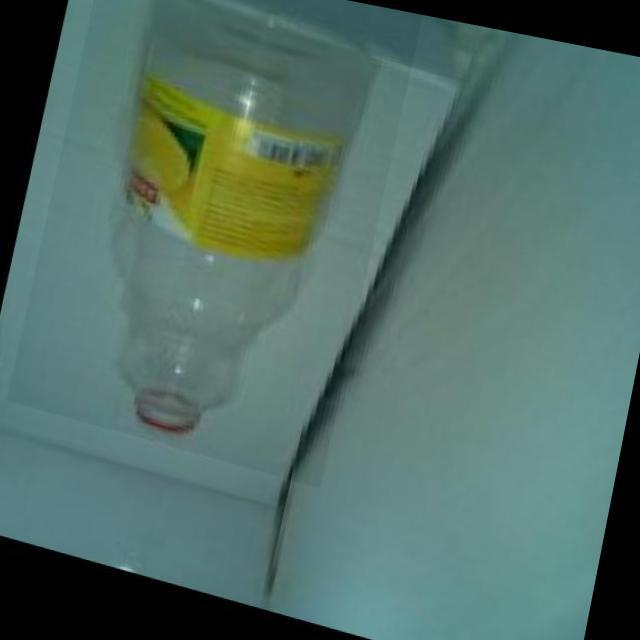good: (0, 0, 420, 493)
